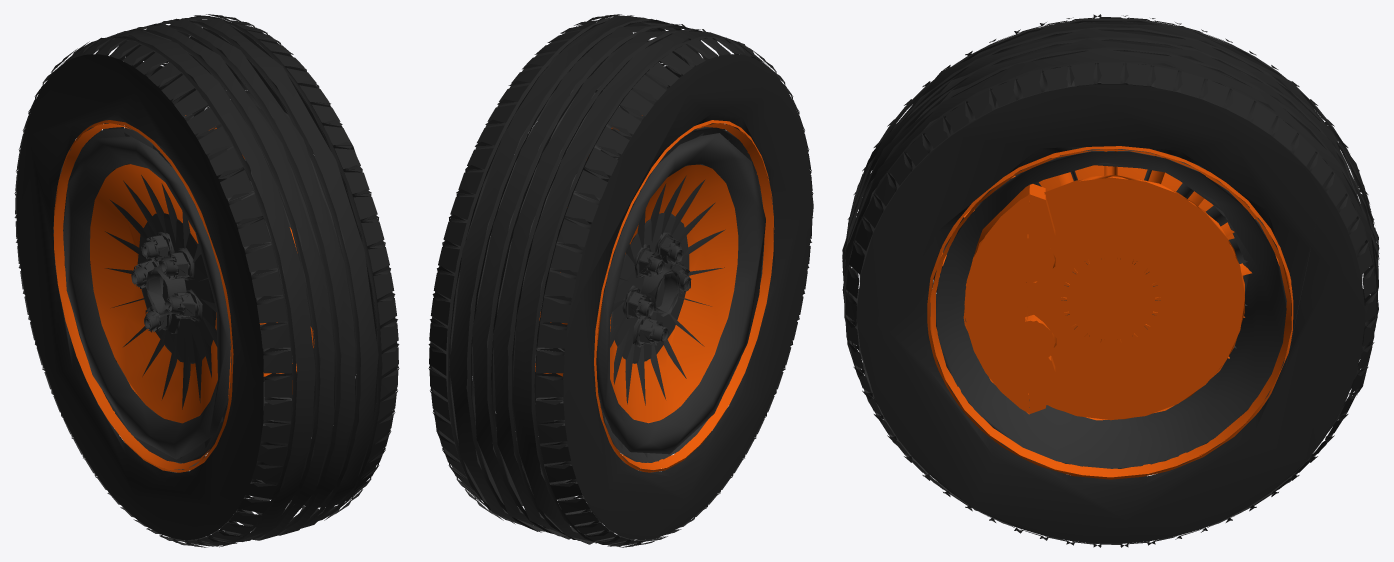
Rendered from wheel_right_up.glb.
The picture shows the model from 3 angles, left to right: view 1: azimuth 30°, elevation 25°; view 2: azimuth 150°, elevation 25°; view 3: azimuth 270°, elevation 25°; orthographic projection. The views are drawn at different scales.
Visible parts, largest first — view 1: wheel_rear_right; view 2: wheel_rear_right; view 3: wheel_rear_right.
Part boxes in pixels (x1=…): wheel_rear_right: x1=14, y1=14, x2=399, y2=547; wheel_rear_right: x1=428, y1=14, x2=813, y2=547; wheel_rear_right: x1=842, y1=14, x2=1379, y2=547.
Size of the model in its own units: 0.1755 by 0.5777 by 0.5783.
